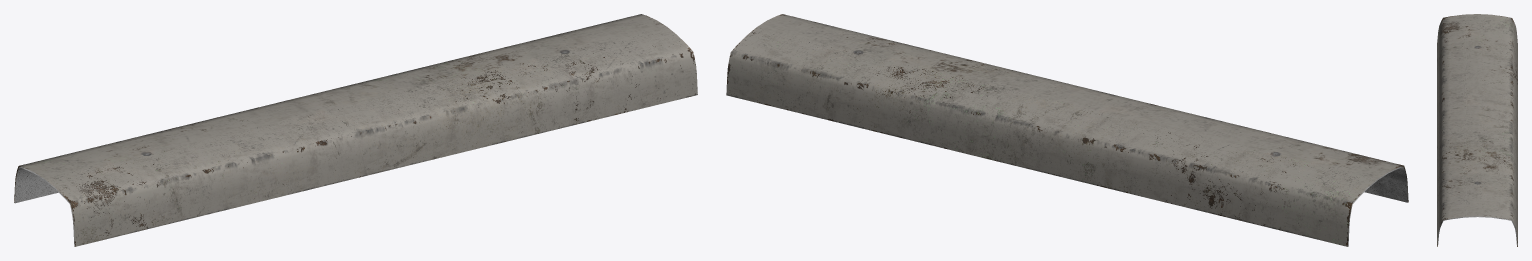
File: LampFluoCover.fbx
3 renders of one model, left to right at view 1: azimuth 30°, elevation 25°; view 2: azimuth 150°, elevation 25°; view 3: azimuth 270°, elevation 25°, orthographic. The views are drawn at different scales.
Visible parts, largest first — view 1: LampFluoCover_LOD0; view 2: LampFluoCover_LOD0; view 3: LampFluoCover_LOD0.
Boxes of the visible parts, left/top/right/bottom form: LampFluoCover_LOD0: left=14, top=14, right=697, bottom=246; LampFluoCover_LOD0: left=726, top=14, right=1408, bottom=246; LampFluoCover_LOD0: left=1437, top=14, right=1517, bottom=246.
Size of what is drawn, in the model's own units: 151 by 10.7 by 25.53.
